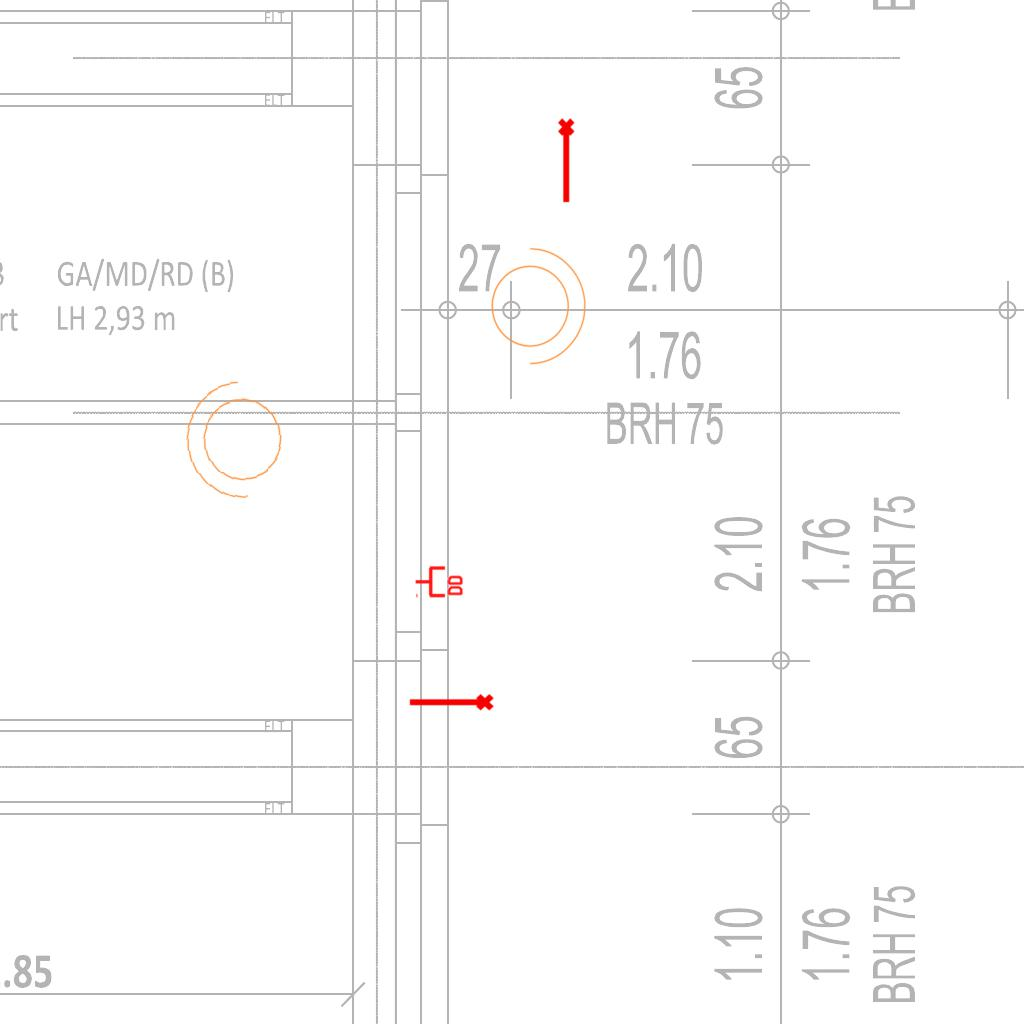ASR_Ansaugoeffnung: (407, 692, 495, 715), (556, 117, 579, 205)
Datenanschluss_zweifach: (414, 564, 465, 598)
Scheinwerfer_fuer_Alarmbeleuchtung: (176, 372, 300, 514), (479, 237, 591, 369)
